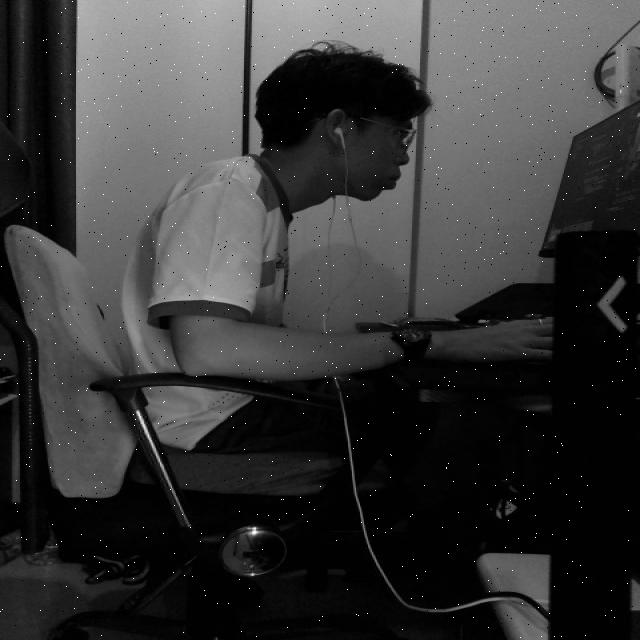Bad: (103, 40, 463, 484)
